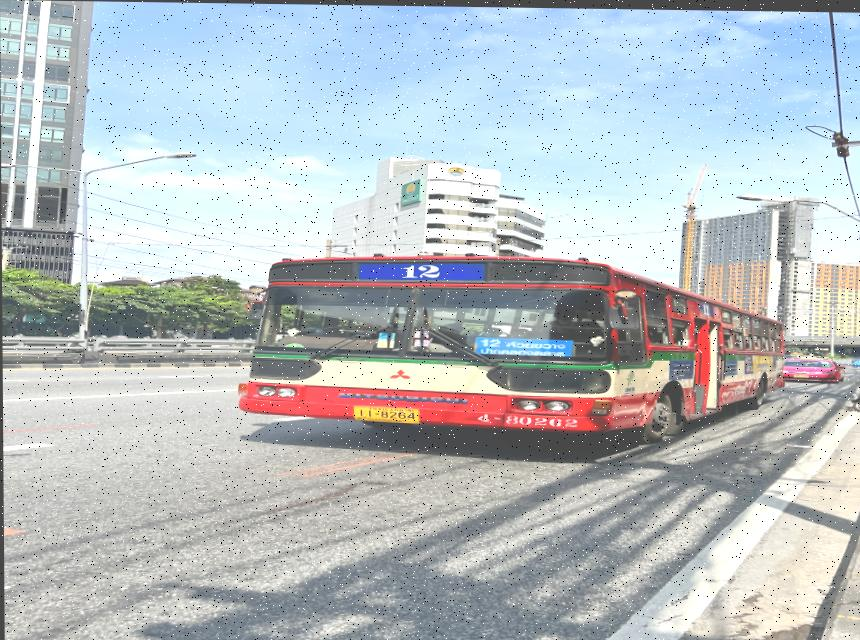BMTA-bus: (237, 254, 787, 442)
Bus Line Number: (375, 259, 473, 281)
Bus Side Number: (463, 410, 587, 427)
Destination Sign: (476, 335, 575, 357)
